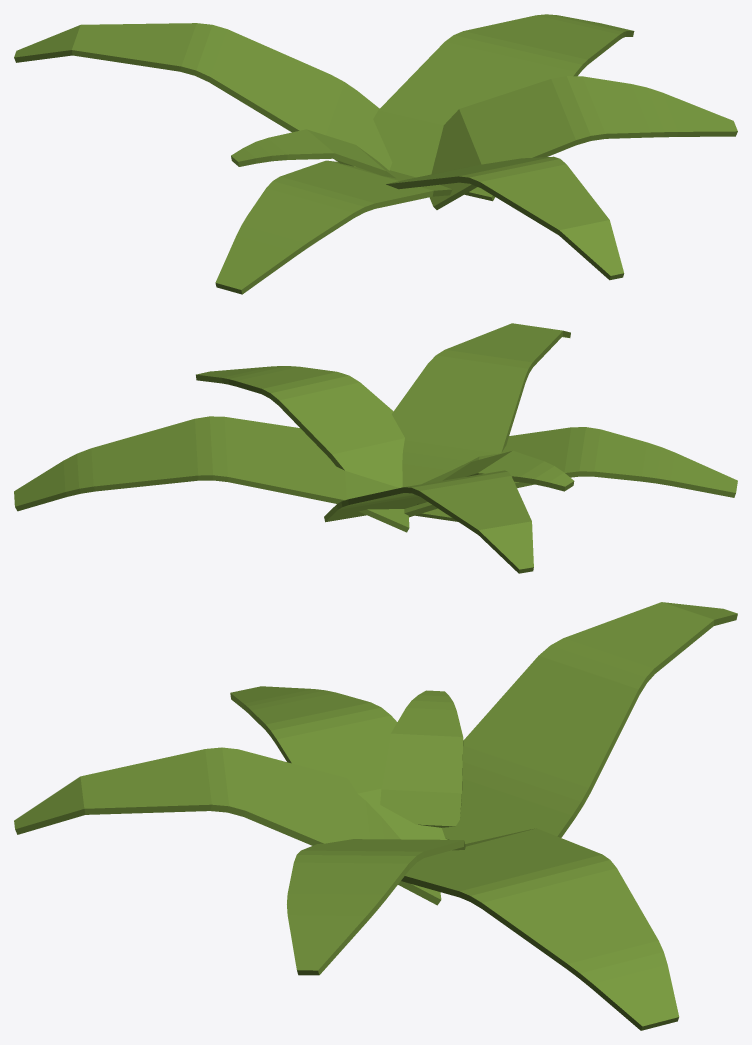
File: Grass_2.fbx
3 renders of one model, top to bottom at view 1: azimuth 30°, elevation 25°; view 2: azimuth 150°, elevation 25°; view 3: azimuth 270°, elevation 25°, orthographic. The views are drawn at different scales.
Parts seen in each view (by area): view 1: Grass_2; view 2: Grass_2; view 3: Grass_2.
Part boxes in pixels (x1,y1,x2,y2): Grass_2: (14, 14, 737, 294); Grass_2: (14, 323, 737, 573); Grass_2: (14, 602, 737, 1030).
Size of the model in its own units: 86.38 by 18.06 by 82.28.
